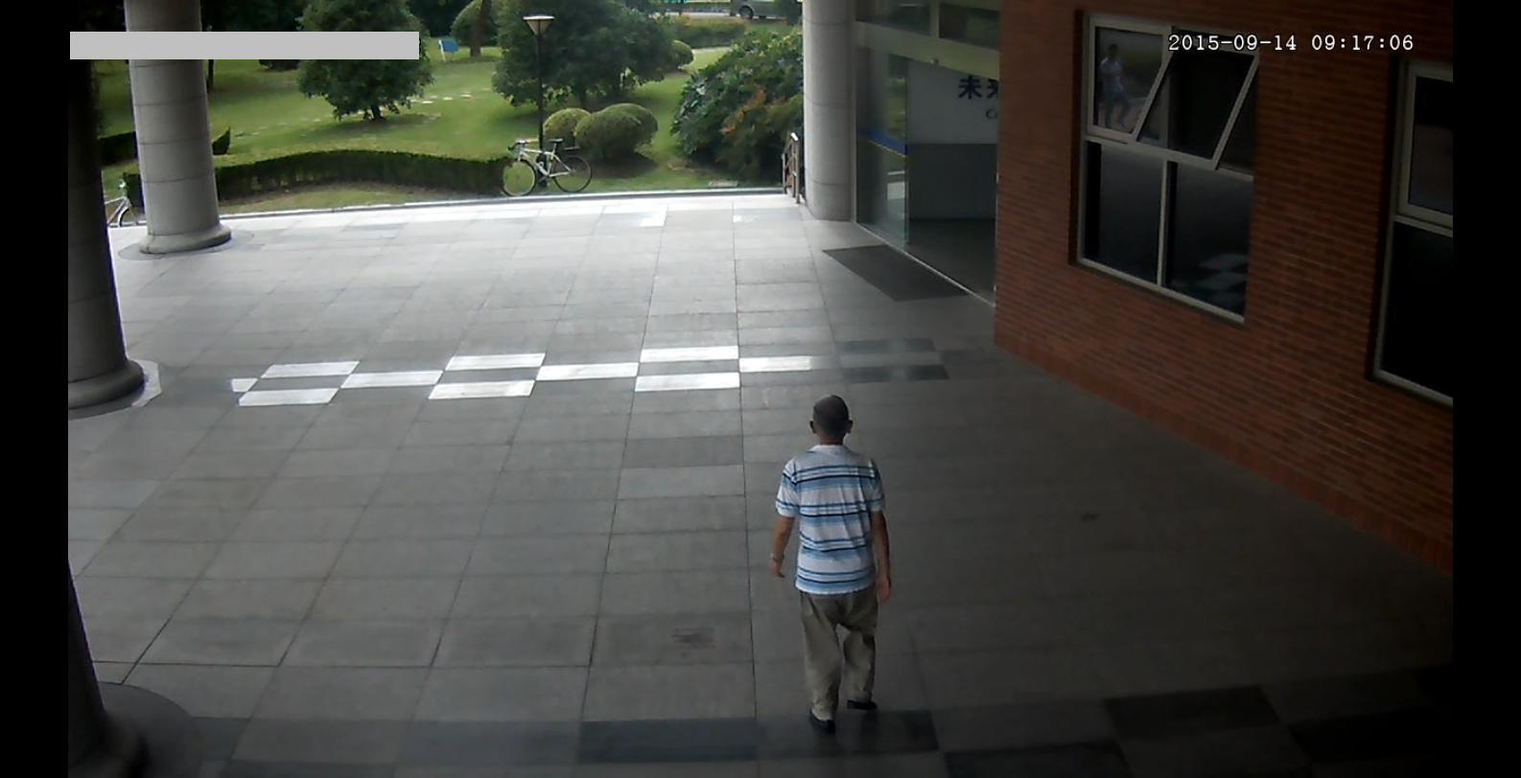person: (766, 393, 898, 733)
